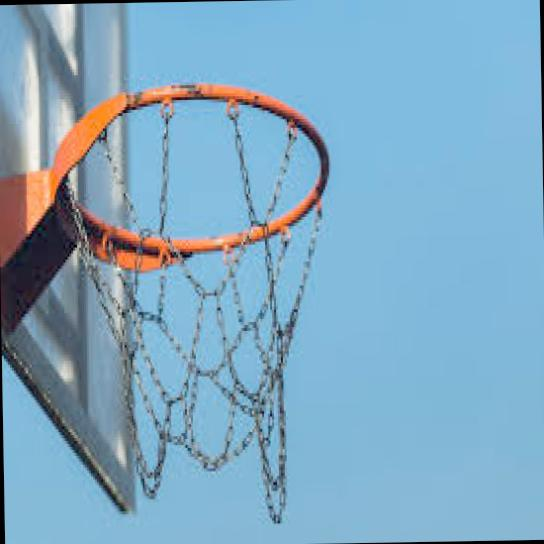basketball-hoop: (50, 76, 337, 530)
